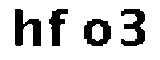3: (116, 5, 149, 51)
f: (46, 7, 70, 48)
h: (13, 6, 43, 48)
o: (78, 16, 113, 48)
